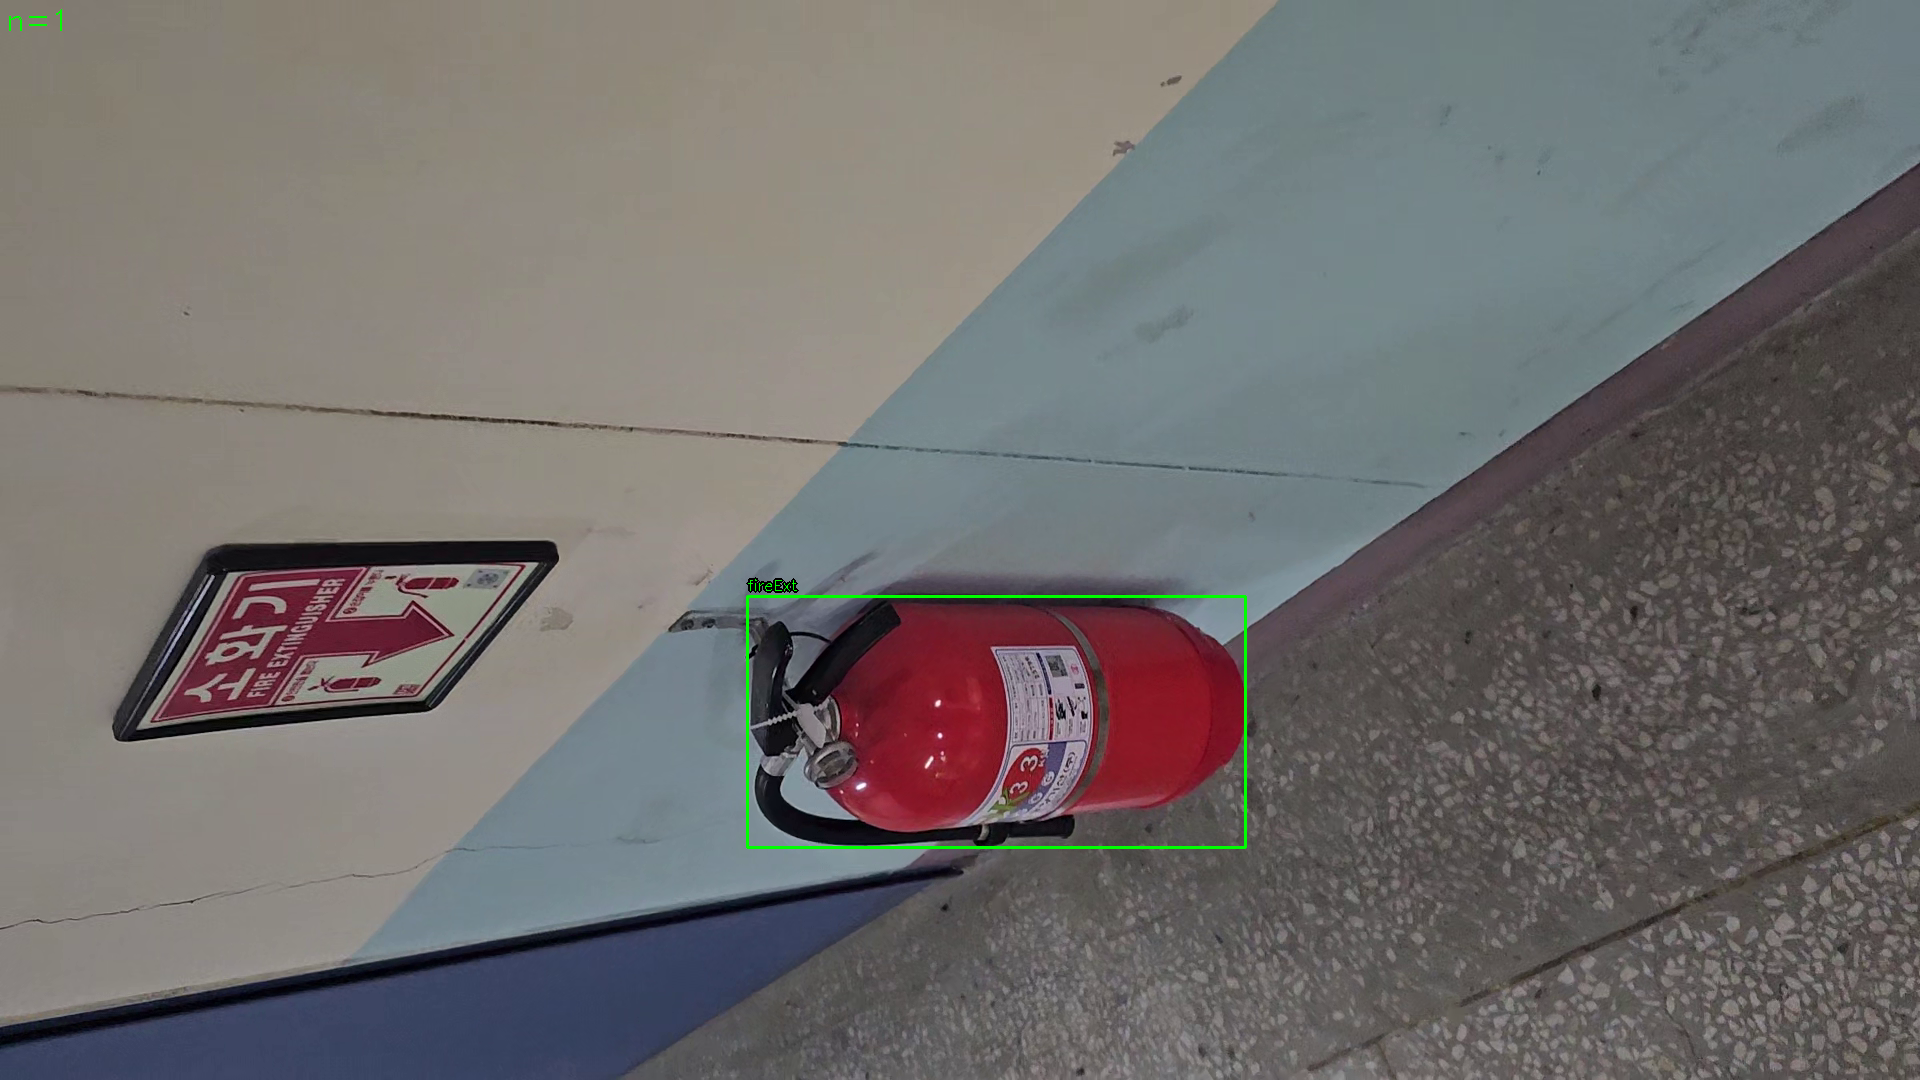lane: (746, 596, 1246, 848)
